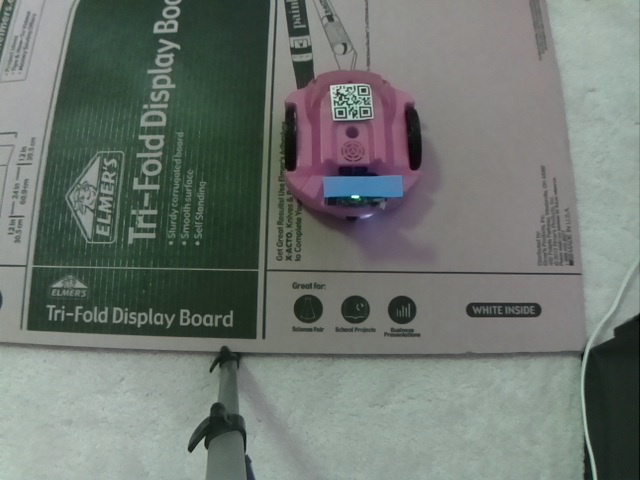chassis: (281, 68, 427, 225)
qr: (328, 82, 374, 120)
